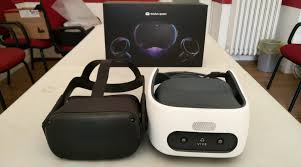oculus: (42, 74, 145, 161)
